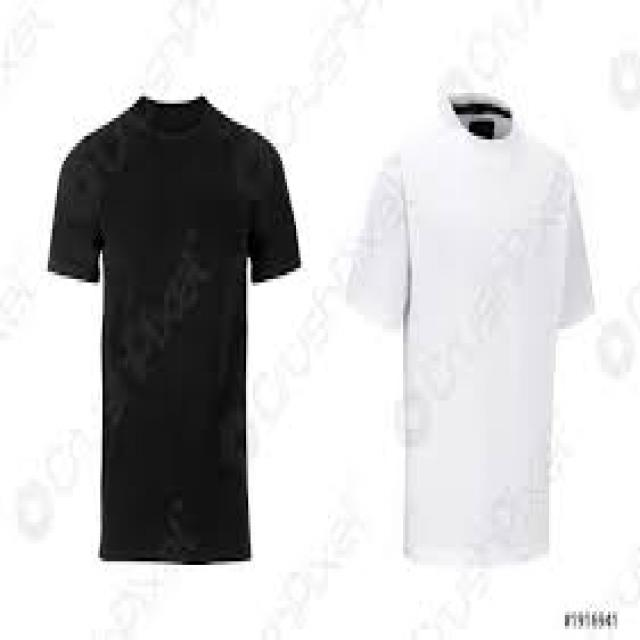Shirt: (327, 60, 605, 589), (38, 78, 306, 588)
